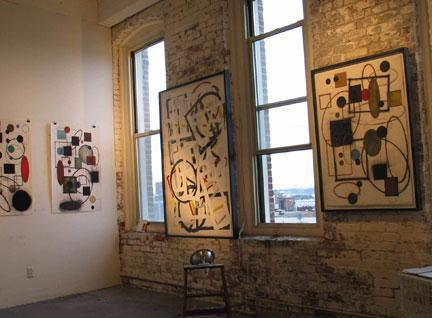Otro Obstaculo: (183, 256, 233, 317)
Ventana: (238, 5, 324, 237), (129, 42, 168, 230)
